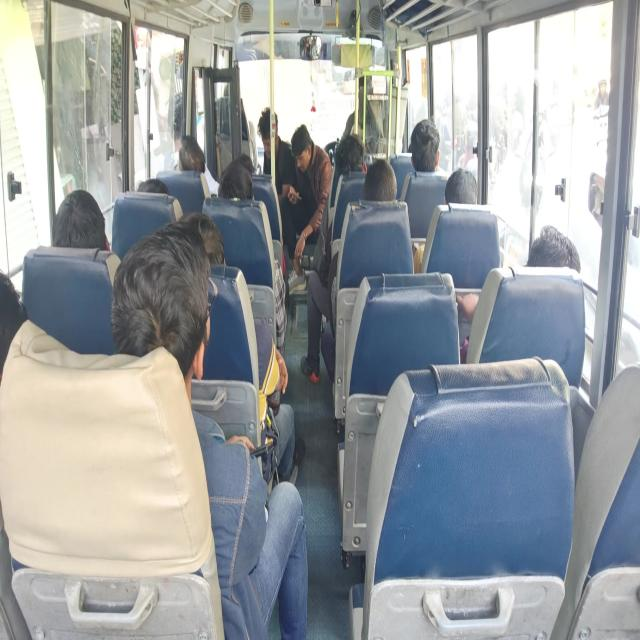person: (110, 222, 308, 638), (178, 210, 301, 487), (300, 158, 398, 383), (217, 159, 288, 357), (455, 224, 581, 322), (282, 124, 332, 291), (412, 167, 478, 273), (256, 106, 298, 203), (51, 188, 110, 251), (0, 269, 27, 382), (177, 134, 219, 197), (178, 211, 225, 267), (526, 224, 580, 272), (409, 118, 449, 176), (217, 160, 254, 201), (362, 158, 397, 201), (444, 167, 477, 204), (178, 134, 205, 173)
